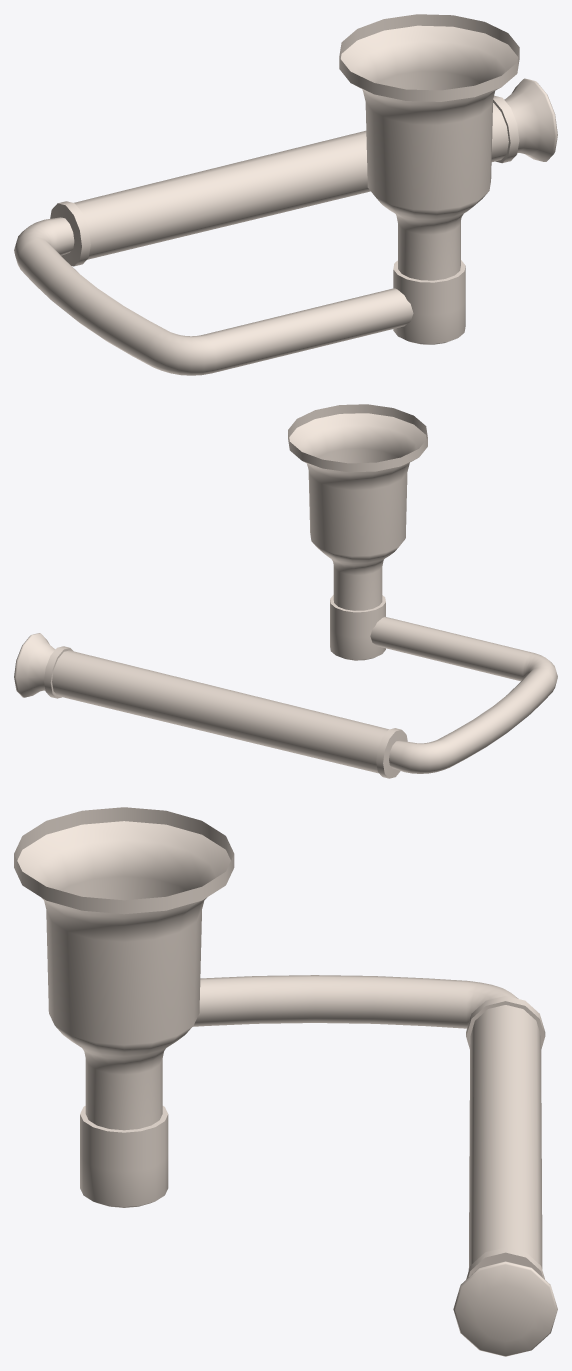
The model's file is ToiletPaperHanger_13_ToiletPaperHanger_13_0.obj.
3 renders of one model, top to bottom at view 1: azimuth 30°, elevation 25°; view 2: azimuth 150°, elevation 25°; view 3: azimuth 270°, elevation 25°, orthographic. The views are drawn at different scales.
Parts seen in each view (by area): view 1: ToiletPaperHanger_13; view 2: ToiletPaperHanger_13; view 3: ToiletPaperHanger_13.
Part boxes in pixels (x1=…): ToiletPaperHanger_13: x1=14, y1=14, x2=557, y2=375; ToiletPaperHanger_13: x1=14, y1=404, x2=557, y2=778; ToiletPaperHanger_13: x1=14, y1=807, x2=557, y2=1356.
Bounding box in the file's own units: 0.1952 × 0.0974 × 0.1383.
